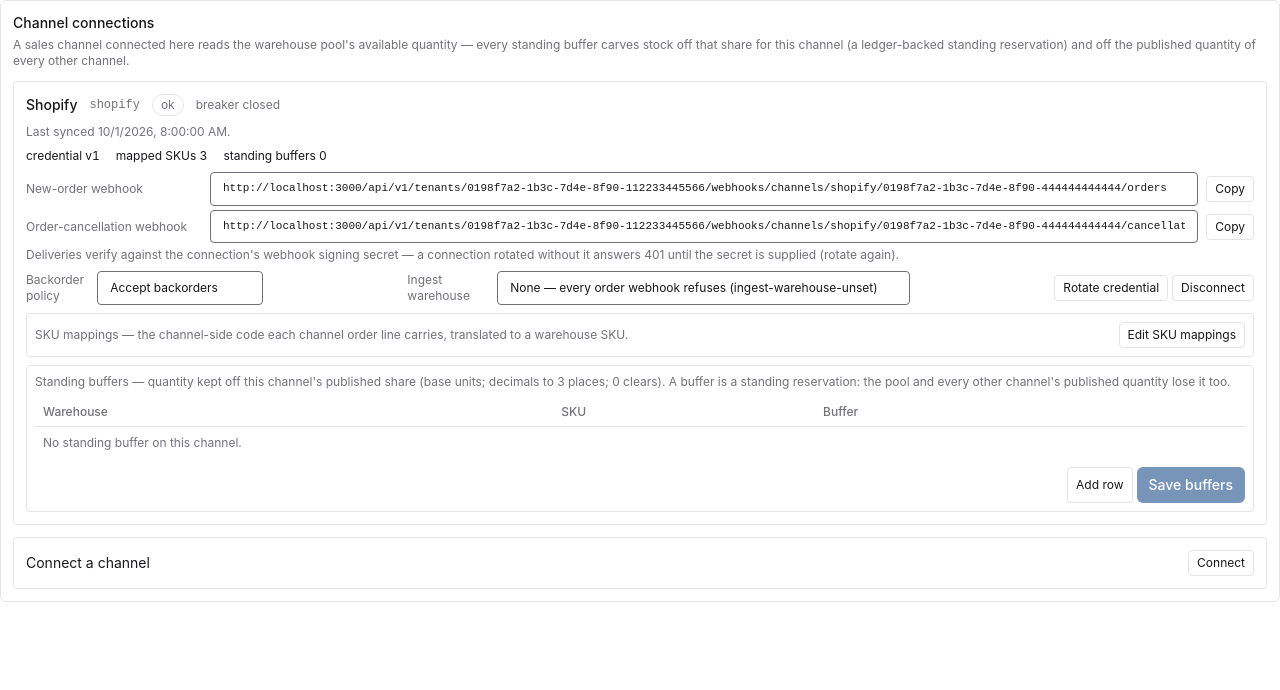
Scenario: ChannelsView: SKU pickers name the client (story 1-1) › mapping rows: the first offers every SKU labelled with its client; the others only the first row's client
Click the button "Edit SKU mappings" at [1182, 335], box [1118,322,1245,348]
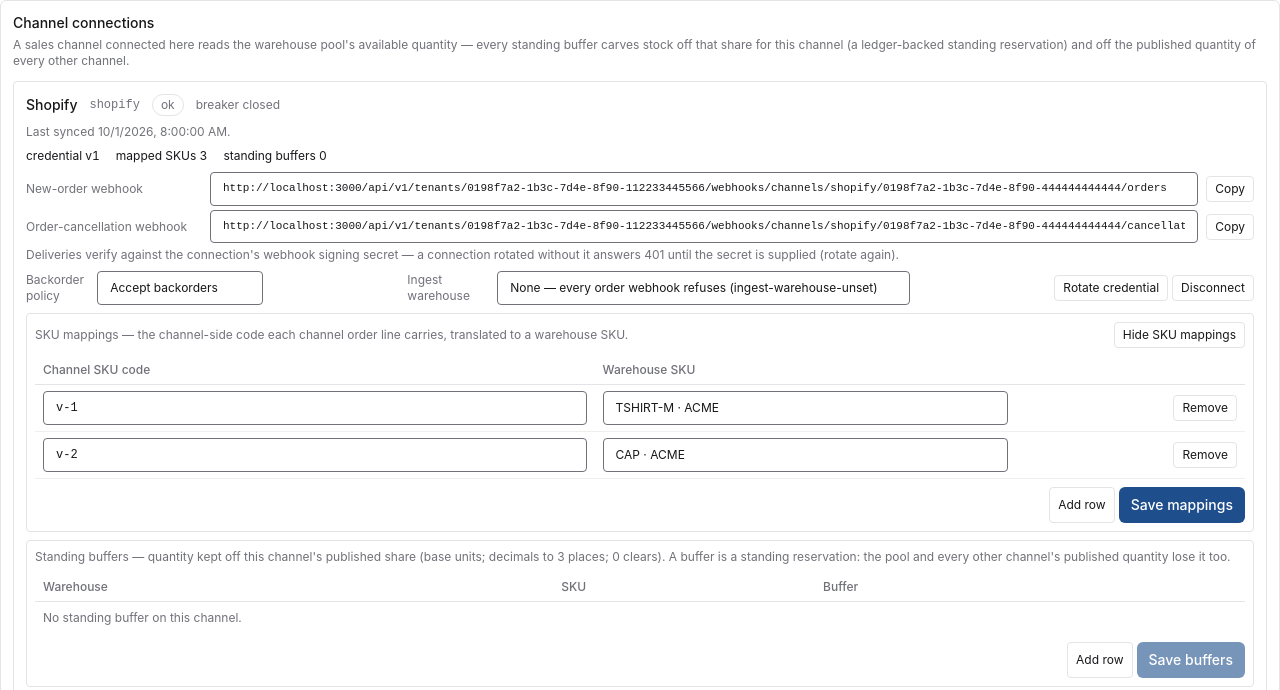
Click the 1st button "Add row" at [1082, 505], box [1049,487,1115,523]
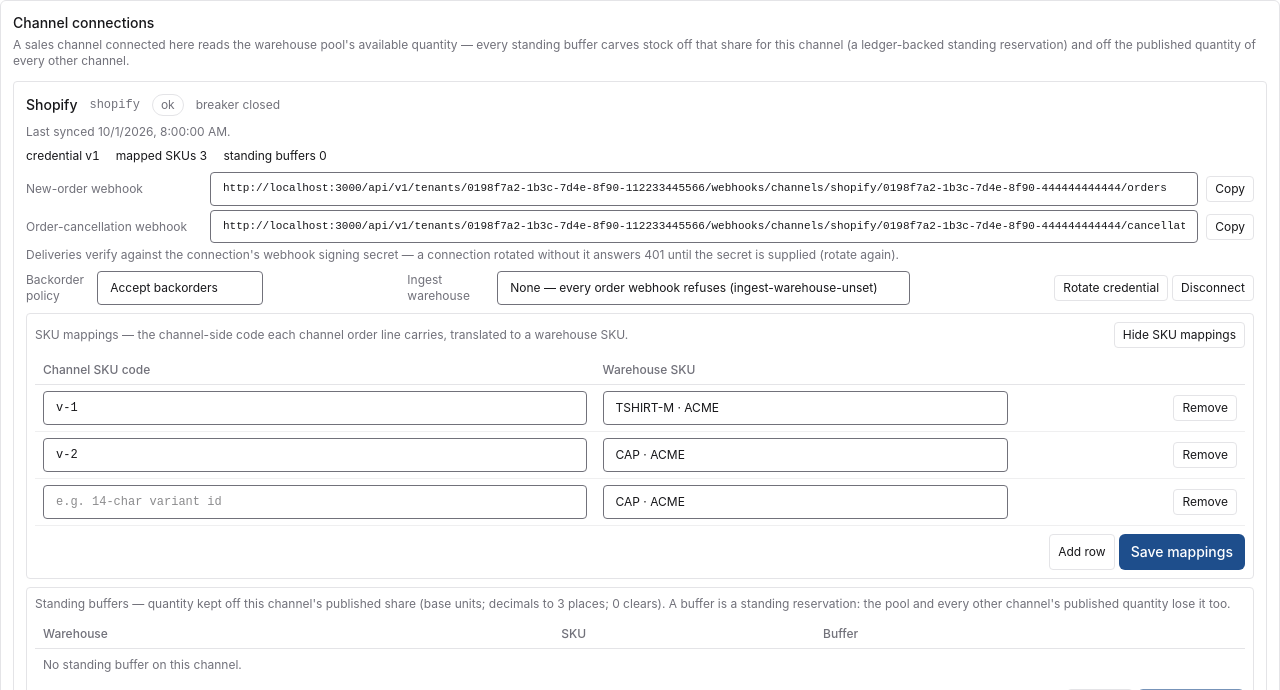
Expected: the dropdown named "Warehouse SKU for row new-3" shows "CAP · ACME", [602,485,1008,519]
